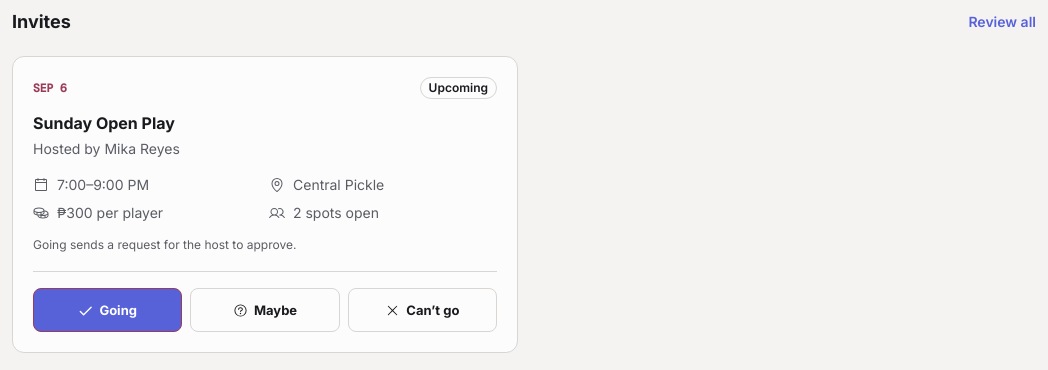
HomeInvitations › keeps the invite actionable when saving fails
Step 1. Click the button "Going" → (108, 310), box [33,288,182,332]
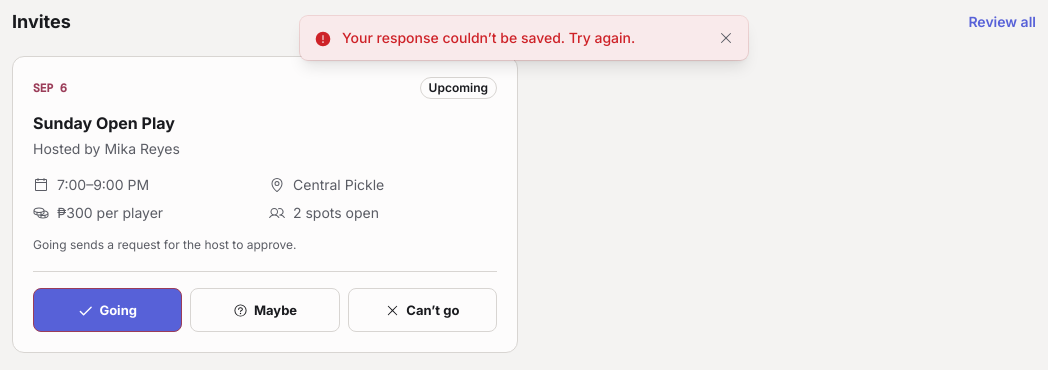
Expected: the heading "Invites" is shown, [12,8,71,36]
Now the message reads "Your response couldn’t be saved. Try again.", box [342,29,635,46]
